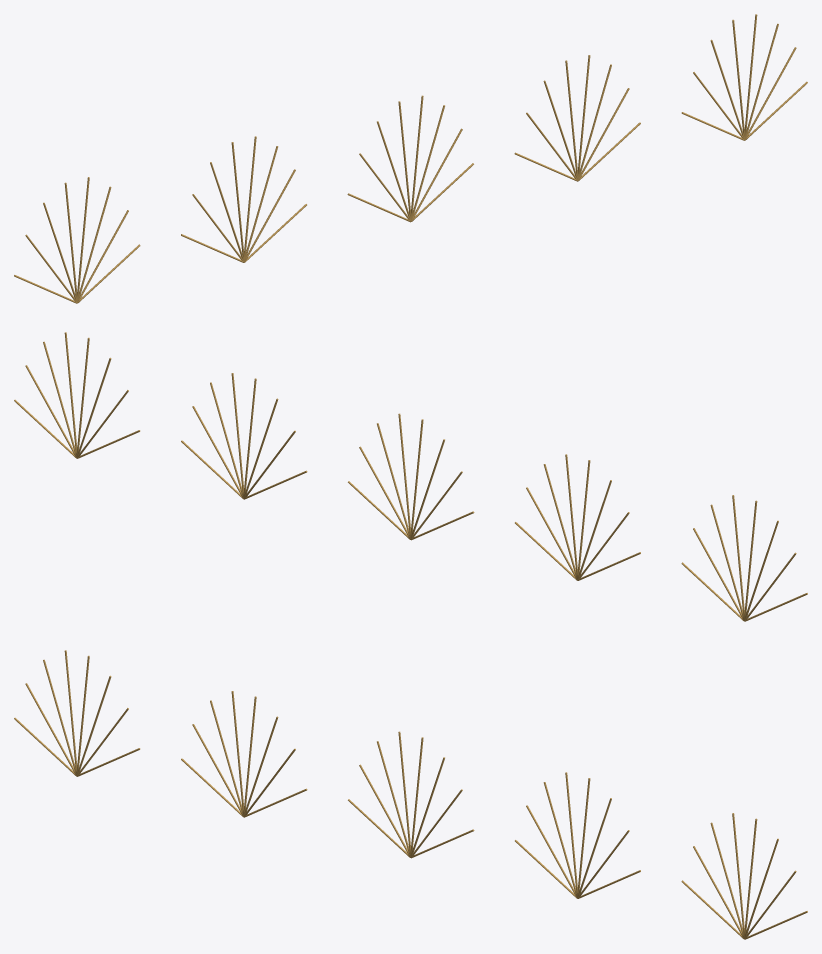
Rendered from speakeasy-north-fans.glb.
3 renders of one model, top to bottom at view 1: azimuth 30°, elevation 25°; view 2: azimuth 150°, elevation 25°; view 3: azimuth 330°, elevation 25°, orthographic.
Visible parts, largest first — view 1: speakeasy-north-fans - Room Review trim runtime PBR; view 2: speakeasy-north-fans - Room Review trim runtime PBR; view 3: speakeasy-north-fans - Room Review trim runtime PBR.
Part boxes in pixels (<box>): speakeasy-north-fans - Room Review trim runtime PBR: <box>14,14,807,303</box>; speakeasy-north-fans - Room Review trim runtime PBR: <box>14,332,807,621</box>; speakeasy-north-fans - Room Review trim runtime PBR: <box>14,650,807,939</box>.
Bounding box in the file's own units: 8.32 × 1.24 × 0.018.
